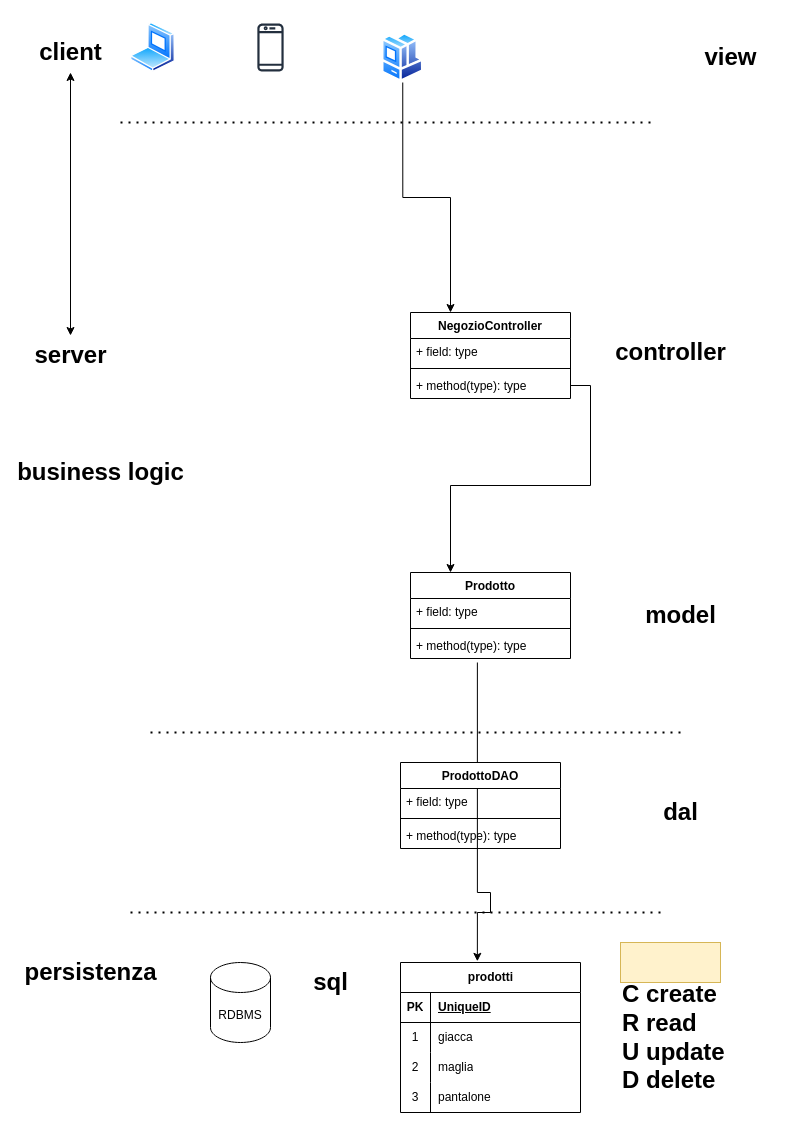
This 798x1130 diagram has some shape labels left out. Here are the shapes that lost their labels. From the top down, the centre of each, then its label:
the point at 270,47: Mobile client
the point at 670,962: DML
